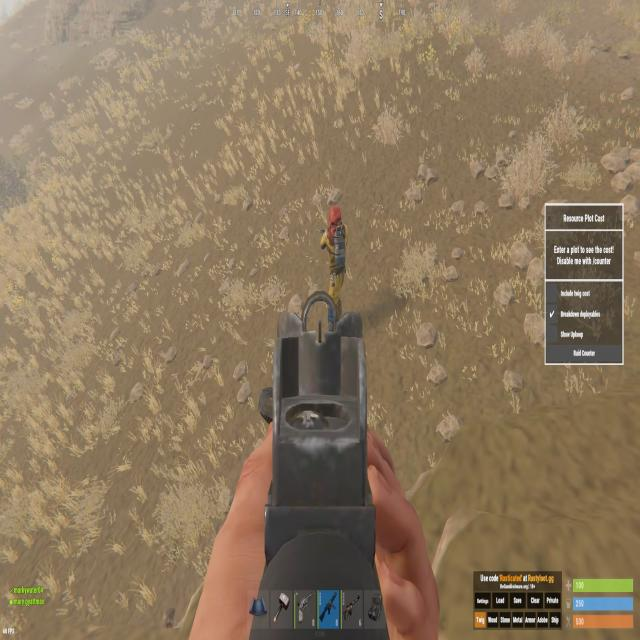Player: (319, 205, 349, 313)
